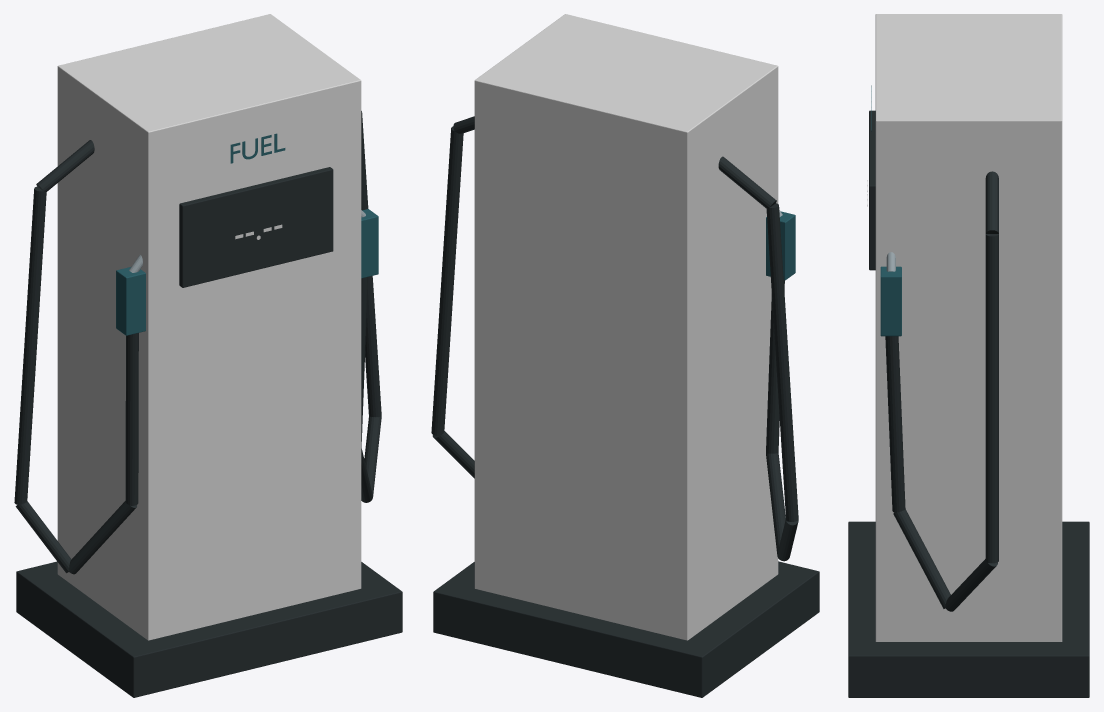
File: petrol-pump.glb
3 views of the same model, side by side, from view 1: azimuth 30°, elevation 25°; view 2: azimuth 150°, elevation 25°; view 3: azimuth 270°, elevation 25° (orthographic). The views are drawn at different scales.
Visible parts, largest first — view 1: Cabinet, Plinth, Meter, Fuel_Hose.001, Fuel_Hose.004, Fuel_Hose.006, Nozzle, Fuel_Hose.003, Nozzle.001, Fuel_Hose.002, Fuel_Hose, Fuel_Hose.007 (+1 smaller); view 2: Cabinet, Plinth, Fuel_Hose.001, Fuel_Hose.006, Fuel_Hose.004, Nozzle, Fuel_Hose.003, Fuel_Hose, Fuel_Hose.007; view 3: Cabinet, Plinth, Fuel_Hose.006, Fuel_Hose.009, Nozzle.001, Fuel_Hose.008, Meter, Fuel_Hose.007, Fuel_Hose.005.
Boxes of the visible parts, x1=… form: Cabinet: x1=57, y1=14, x2=361, y2=640; Plinth: x1=16, y1=561, x2=402, y2=697; Meter: x1=179, y1=167, x2=333, y2=287; Fuel_Hose.001: x1=14, y1=186, x2=46, y2=505; Fuel_Hose.004: x1=125, y1=333, x2=138, y2=505; Fuel_Hose.006: x1=361, y1=111, x2=381, y2=417; Nozzle: x1=116, y1=267, x2=145, y2=335; Fuel_Hose.003: x1=69, y1=501, x2=136, y2=574; Nozzle.001: x1=361, y1=209, x2=378, y2=278; Fuel_Hose.002: x1=15, y1=501, x2=71, y2=573; Fuel_Hose: x1=36, y1=140, x2=94, y2=191; Fuel_Hose.007: x1=364, y1=416, x2=381, y2=496; Cabinet: x1=474, y1=14, x2=778, y2=640; Plinth: x1=433, y1=561, x2=819, y2=697; Fuel_Hose.001: x1=766, y1=203, x2=798, y2=521; Fuel_Hose.006: x1=431, y1=126, x2=463, y2=435; Fuel_Hose.004: x1=766, y1=280, x2=784, y2=453; Nozzle: x1=766, y1=211, x2=795, y2=280; Fuel_Hose.003: x1=766, y1=453, x2=785, y2=554; Fuel_Hose: x1=718, y1=156, x2=776, y2=208; Fuel_Hose.007: x1=432, y1=431, x2=474, y2=478; Cabinet: x1=875, y1=14, x2=1062, y2=641; Plinth: x1=848, y1=521, x2=1089, y2=697; Fuel_Hose.006: x1=985, y1=234, x2=998, y2=563; Fuel_Hose.009: x1=885, y1=336, x2=905, y2=512; Nozzle.001: x1=880, y1=266, x2=901, y2=336; Fuel_Hose.008: x1=893, y1=509, x2=950, y2=608; Meter: x1=869, y1=110, x2=875, y2=270; Fuel_Hose.007: x1=945, y1=559, x2=997, y2=611; Fuel_Hose.005: x1=985, y1=171, x2=998, y2=233.
Bounding box in the file's own units: 1.11 × 1.6 × 0.62.
